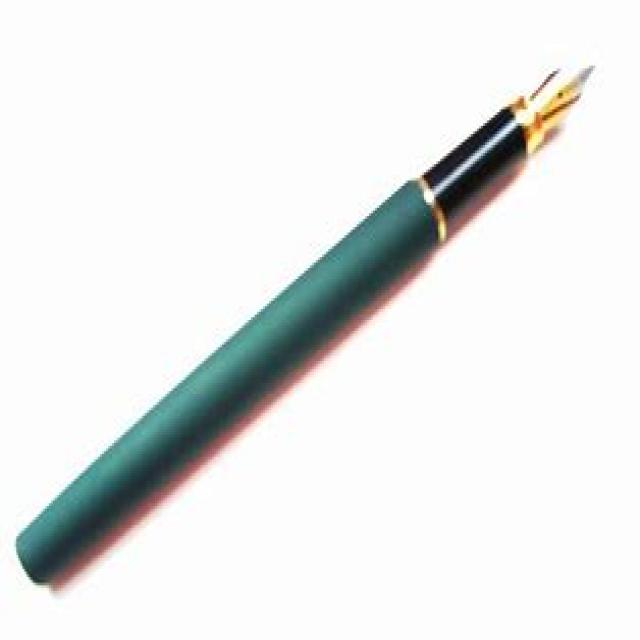pen: (14, 59, 594, 587)
